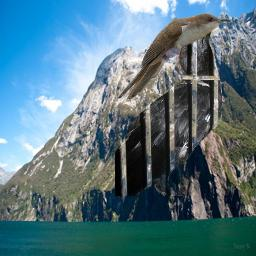Crow: (115, 15, 222, 196)
Cuckoo: (117, 13, 231, 99)
